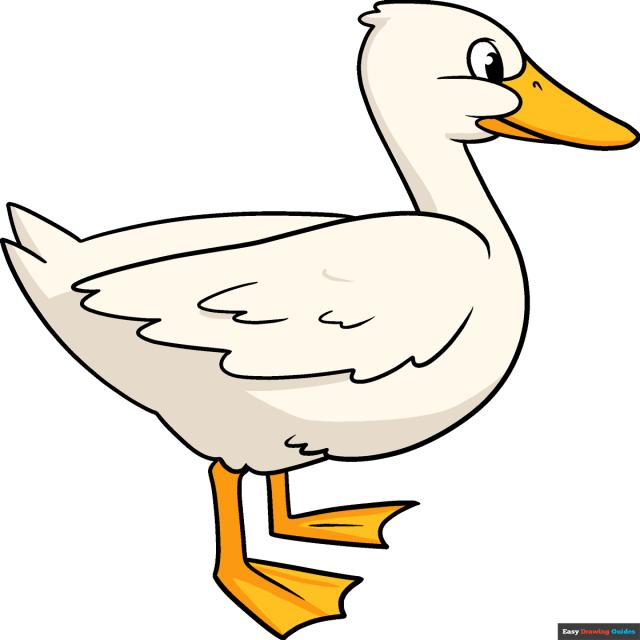Duck: (3, 2, 640, 640)
